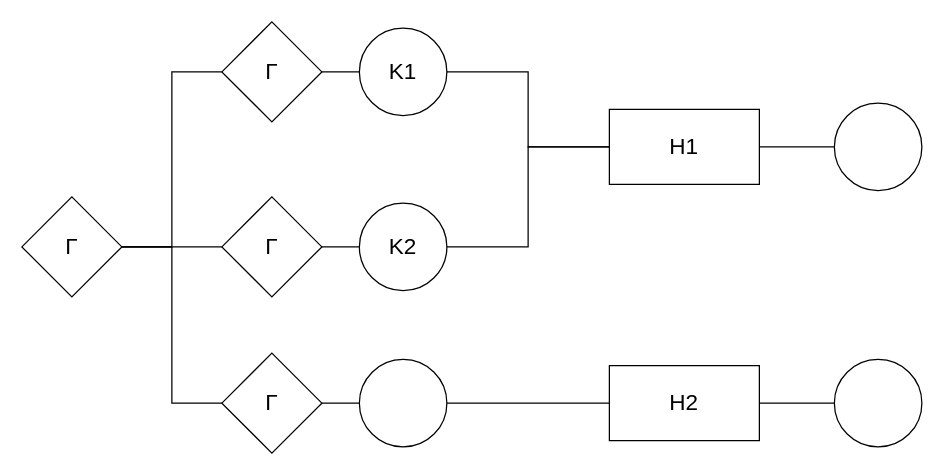
This 944x475 diagram has some shape labels left out. The box of each missing label's shape, as (x1, y1, x2, y2) in pixels:
K3: (358, 358, 447, 447)
K4: (833, 102, 922, 191)
K5: (833, 358, 922, 447)
